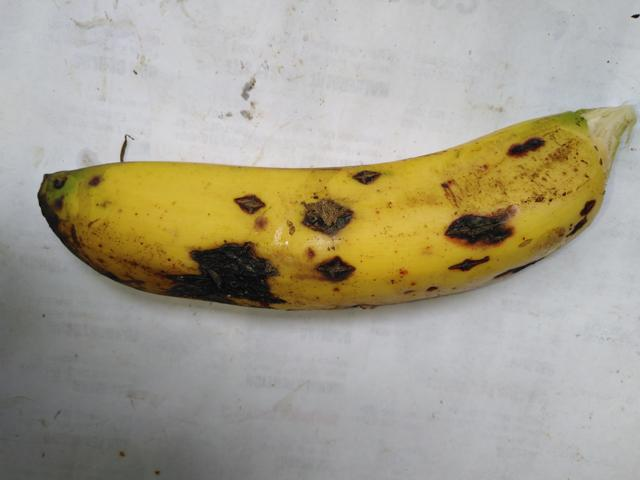rotten: (134, 221, 311, 329), (426, 198, 517, 280), (284, 176, 356, 244), (483, 124, 559, 169), (218, 169, 268, 227), (312, 241, 358, 284), (348, 155, 390, 195)
